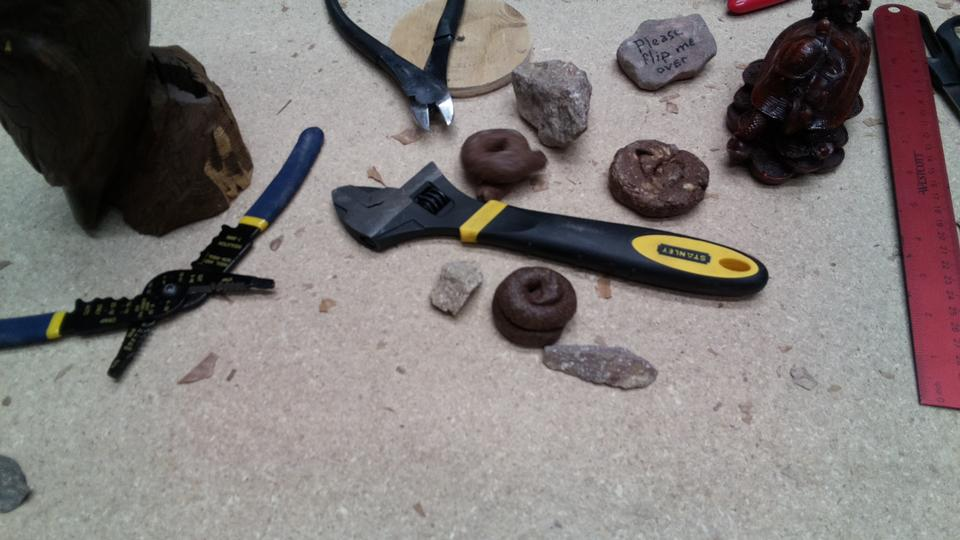poop: (604, 137, 711, 222), (487, 261, 581, 355), (458, 127, 548, 202)
